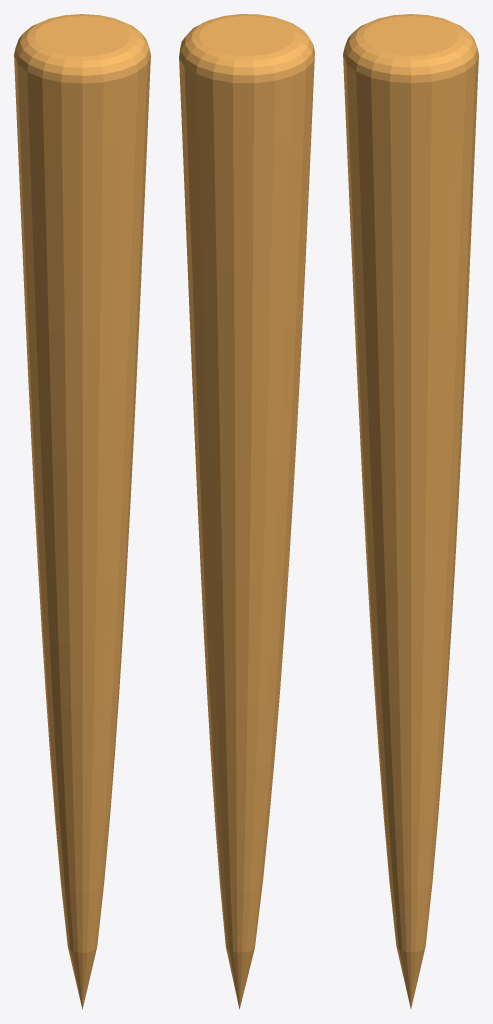
The model's file is carrot_v15.glb.
3 views of the same model, side by side, from view 1: azimuth 90°, elevation 25°; view 2: azimuth 150°, elevation 25°; view 3: azimuth 270°, elevation 25° (orthographic).
Parts seen in each view (by area): view 1: root; view 2: root; view 3: root.
Boxes of the visible parts, x1,y1,x2,y2 form: root: (14, 14, 150, 1009); root: (179, 14, 314, 1009); root: (343, 14, 478, 1008).
Bounding box in the file's own units: 0.0252 × 0.1983 × 0.0252.
